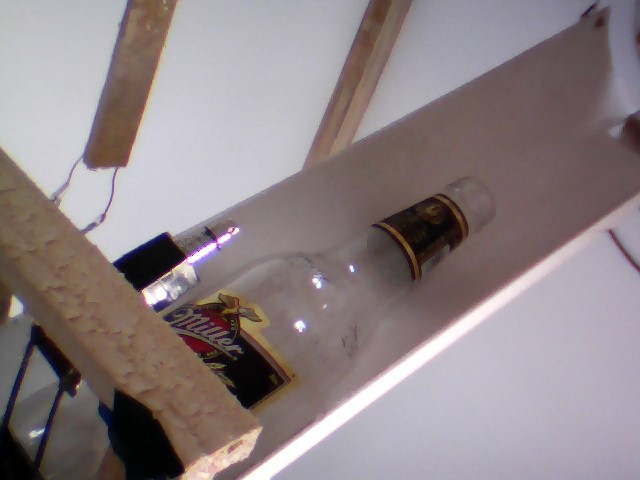vidrio: (181, 172, 502, 446)
